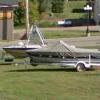Boat: (2, 36, 97, 74)
